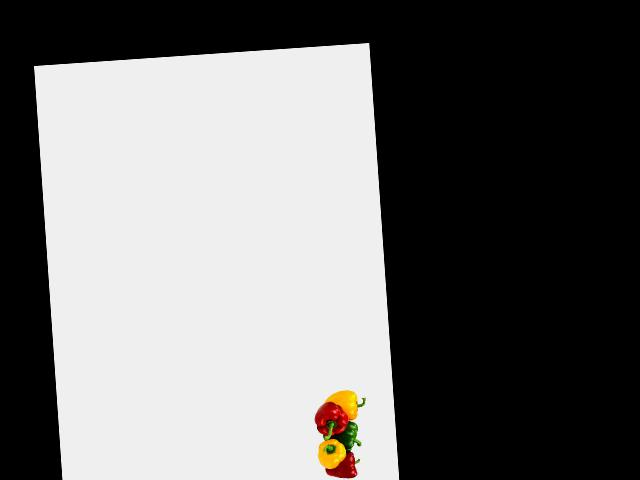bell_pepper: (328, 450, 362, 480)
